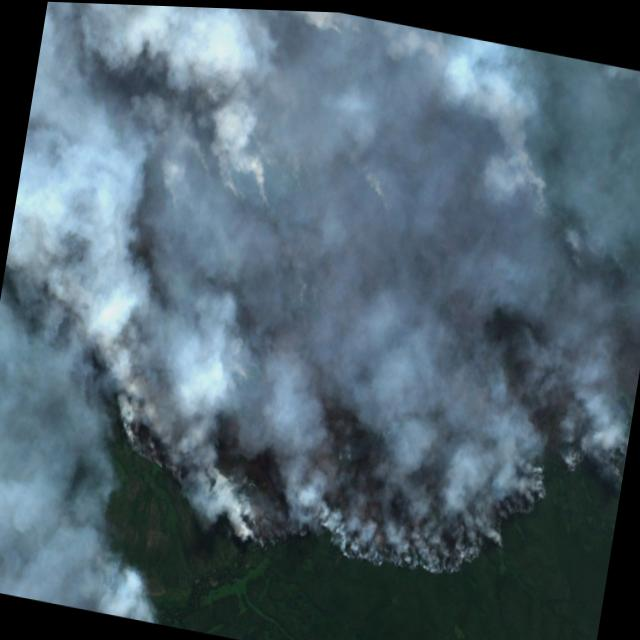fire: (0, 0, 640, 620)
